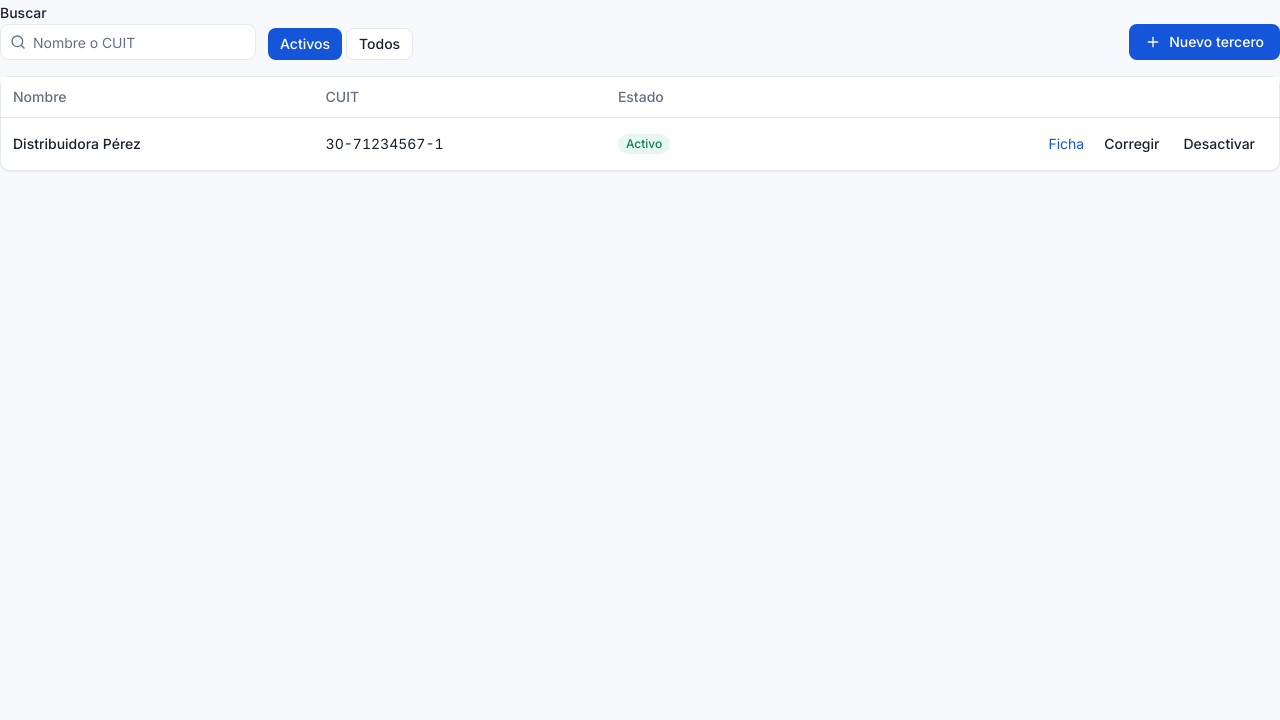
Test: Terceros of the platform › a repeated CUIT is a hard stop, naming the deactivated one
The image size is (1280, 720).
Click the button "Nuevo tercero" at [1205, 42], box top-left (1129, 24), bottom-right (1279, 60)
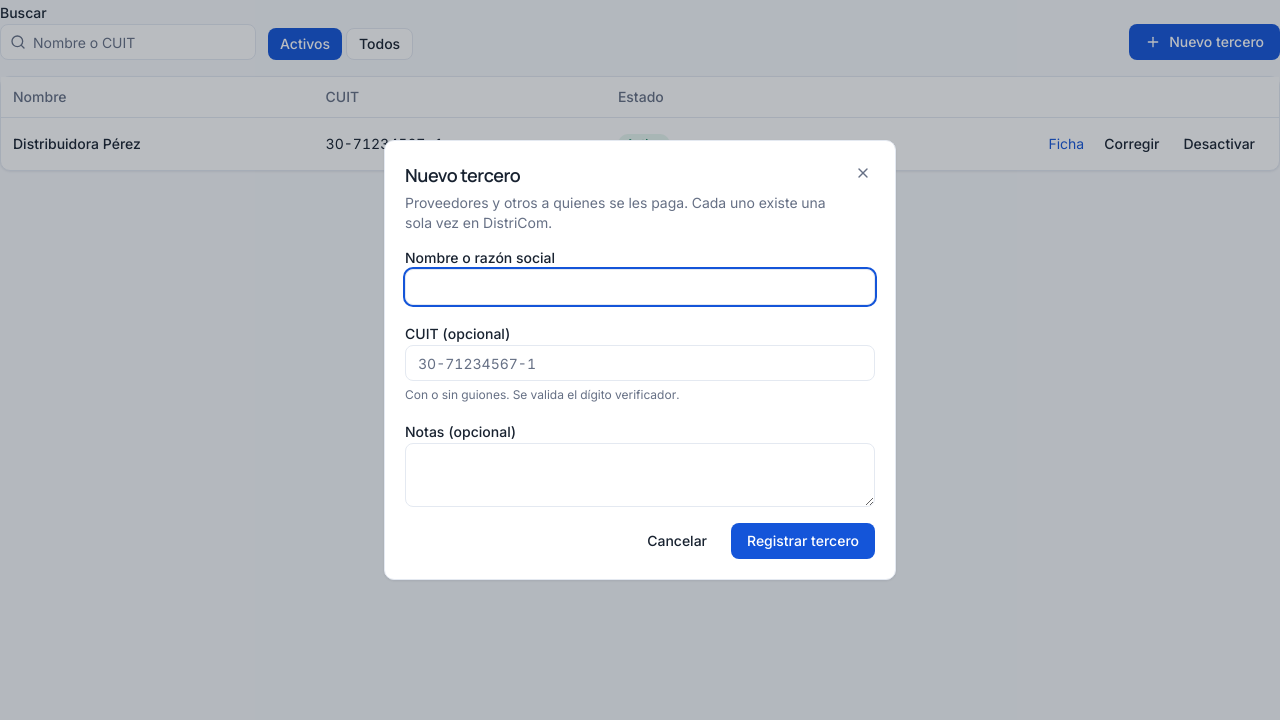
Type "Otro" into the field labelled "Nombre o razón social" at [640, 287], box top-left (405, 269), bottom-right (875, 305)
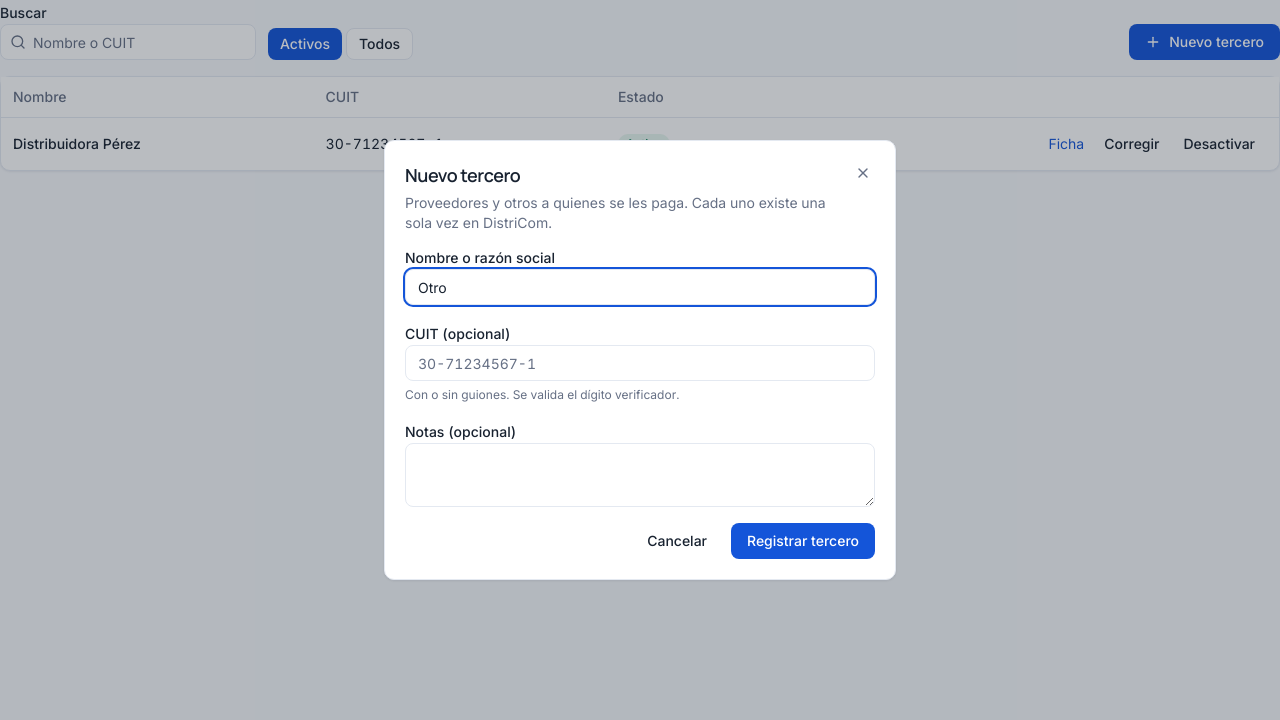
Type "30712345671" into the field labelled "CUIT (opcional)" at [640, 363], box top-left (405, 345), bottom-right (875, 381)
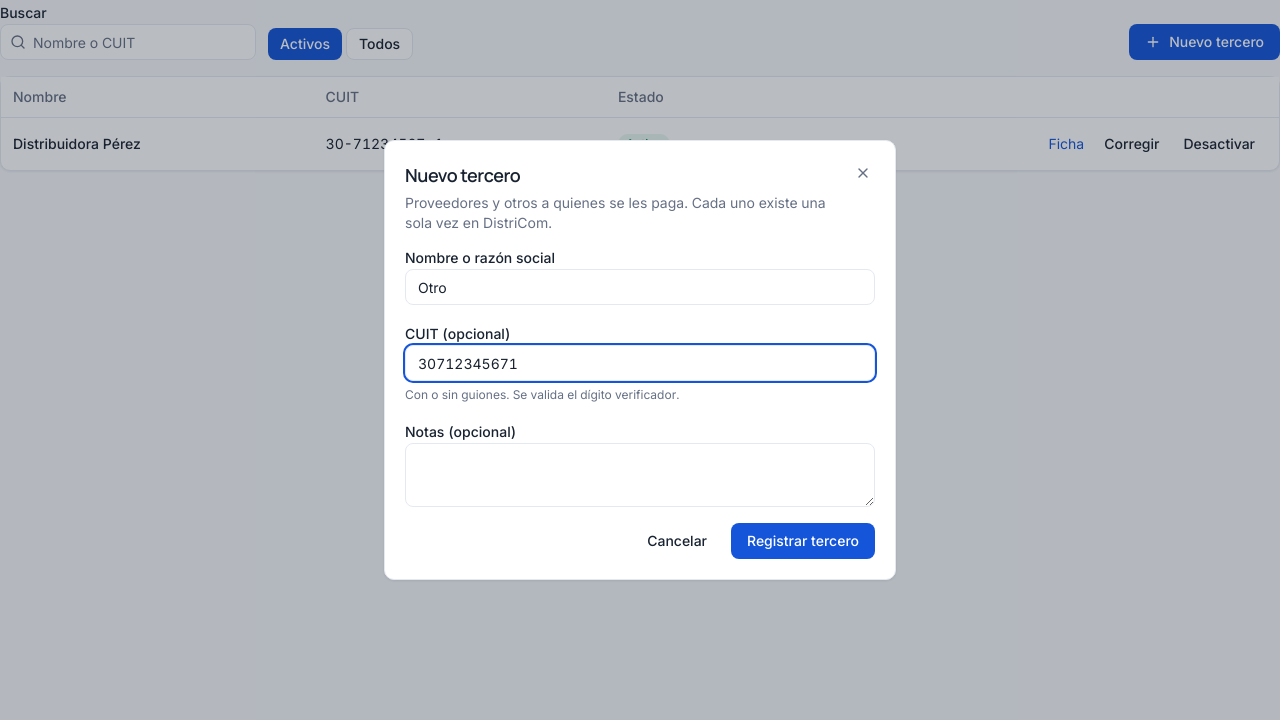
Click the button "Registrar tercero" at [803, 541], box top-left (731, 523), bottom-right (875, 559)
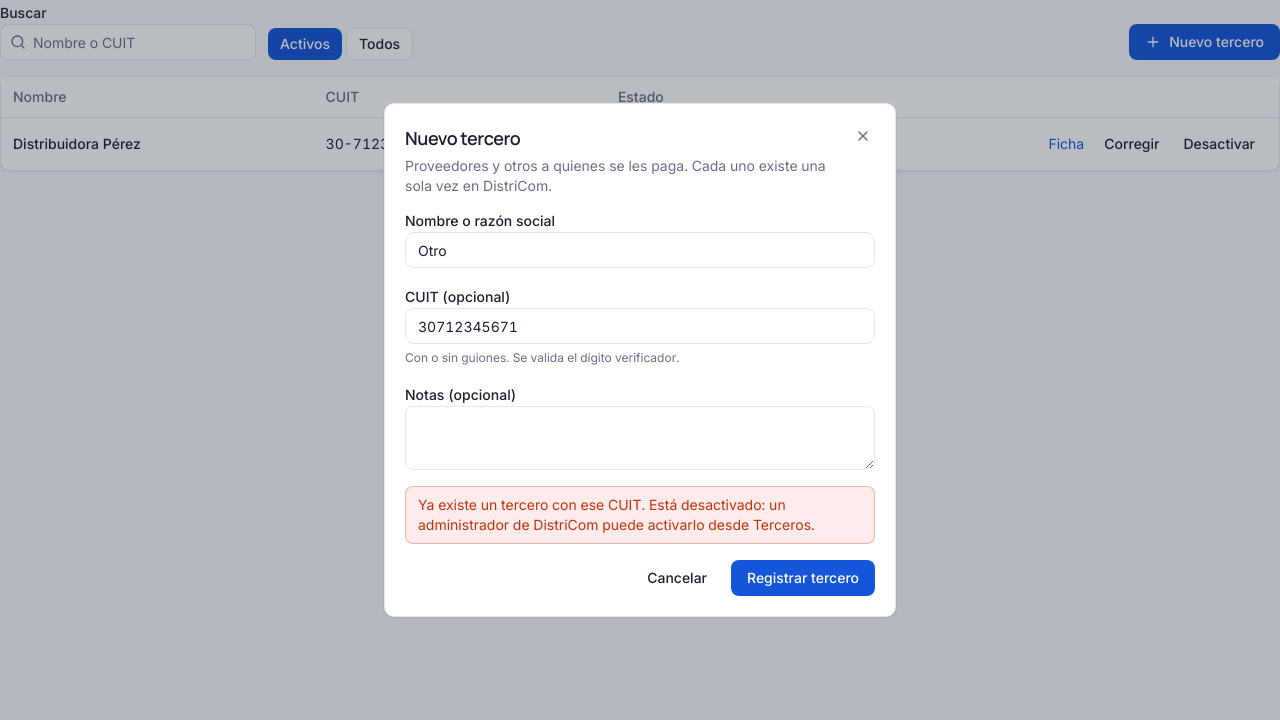
Result: the message shows "Ya existe un tercero con ese CUIT. Está desactivado" at top-left (418, 496), bottom-right (815, 533)
